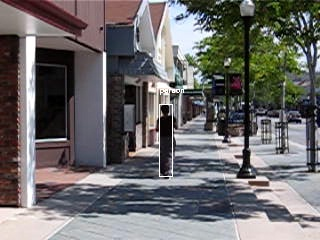person: (155, 104, 178, 179), (154, 104, 177, 179), (156, 104, 179, 179), (155, 103, 178, 178), (155, 105, 178, 180)
target_negative: (146, 88, 247, 228), (112, 49, 218, 181), (205, 82, 251, 235), (204, 108, 219, 233), (105, 219, 152, 240), (293, 115, 318, 118)
